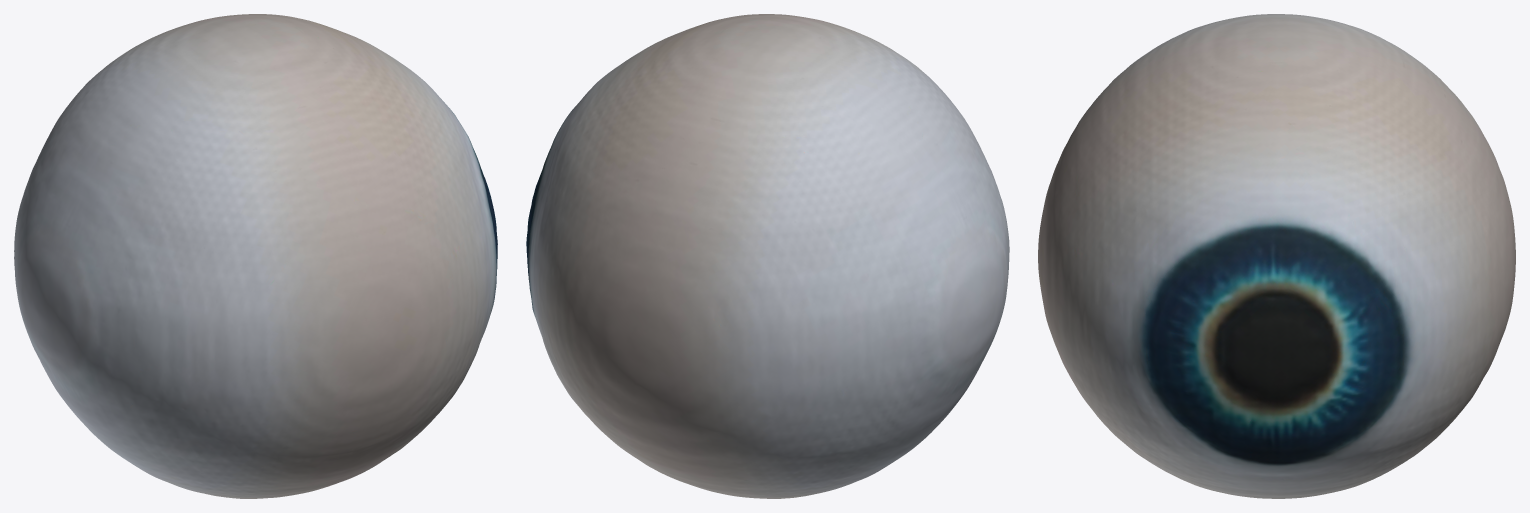
The model's file is normal-eye.glb.
3 renders of one model, left to right at view 1: azimuth 30°, elevation 25°; view 2: azimuth 150°, elevation 25°; view 3: azimuth 270°, elevation 25°, orthographic.
Visible parts, largest first — view 1: high_poly; view 2: high_poly; view 3: high_poly.
Boxes of the visible parts, box(x1,y1,x2,y2) form: high_poly: box(14, 14, 497, 498); high_poly: box(526, 14, 1009, 498); high_poly: box(1038, 14, 1515, 498).
Size of the model in its own units: 1 by 0.9926 by 0.9728.
1 material, 1 textured.
